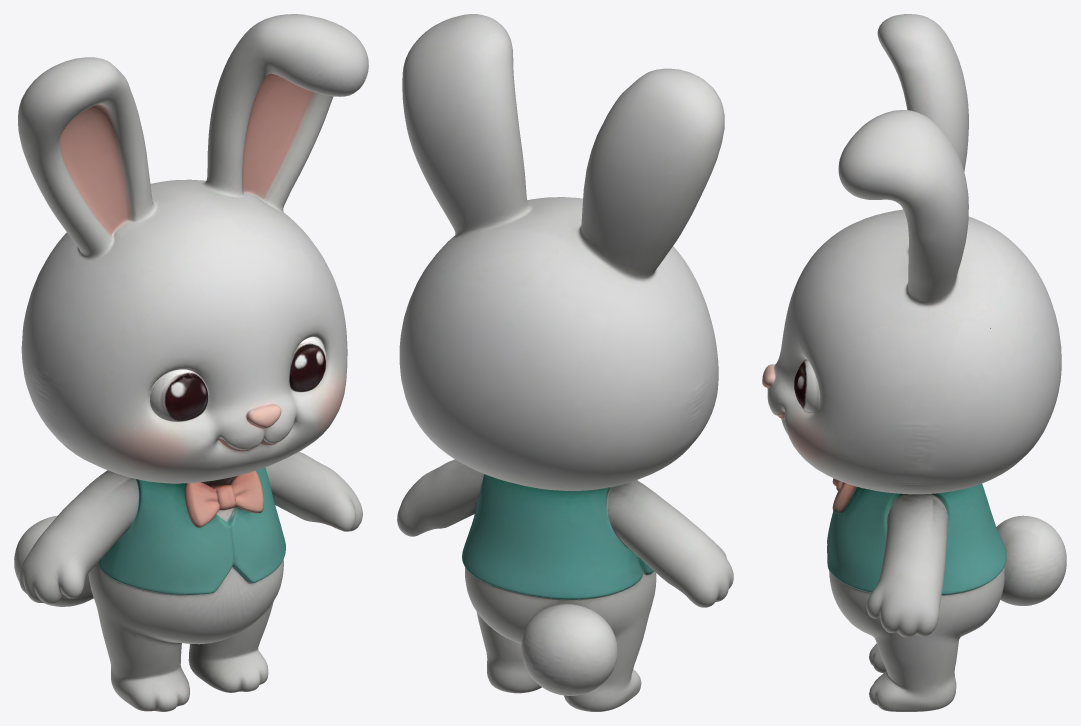
The model's file is npc_rabbit.glb.
3 renders of one model, left to right at view 1: azimuth 30°, elevation 25°; view 2: azimuth 150°, elevation 25°; view 3: azimuth 270°, elevation 25°, orthographic. The views are drawn at different scales.
Parts seen in each view (by area): view 1: node_0; view 2: node_0; view 3: node_0.
Boxes of the visible parts, x1,y1,x2,y2 form: node_0: [14, 14, 368, 711]; node_0: [397, 14, 733, 711]; node_0: [762, 14, 1066, 711].
Size of the model in its own units: 0.5916 by 1.12 by 0.5034.
Materials: 1 (1 with a texture image).
